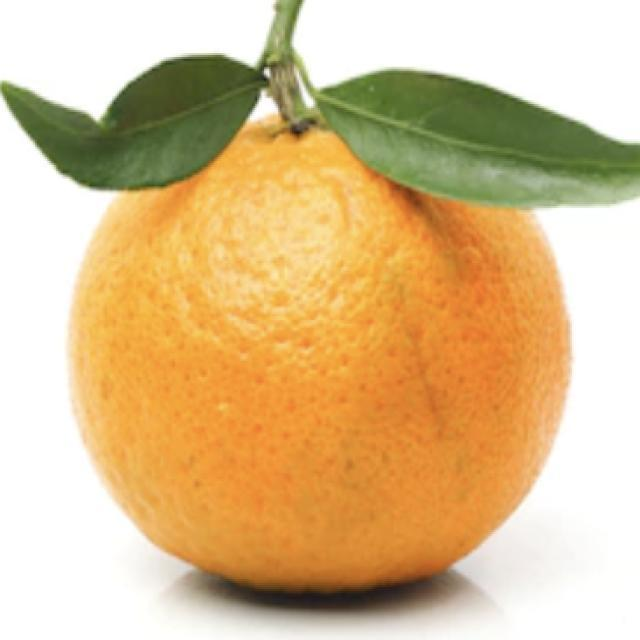Orange: (66, 109, 573, 595)
